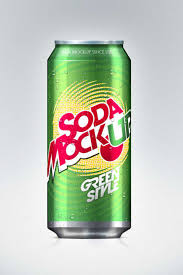can: (45, 36, 134, 243)
